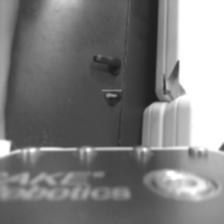Lock: (92, 54, 122, 78), (104, 89, 121, 105)
